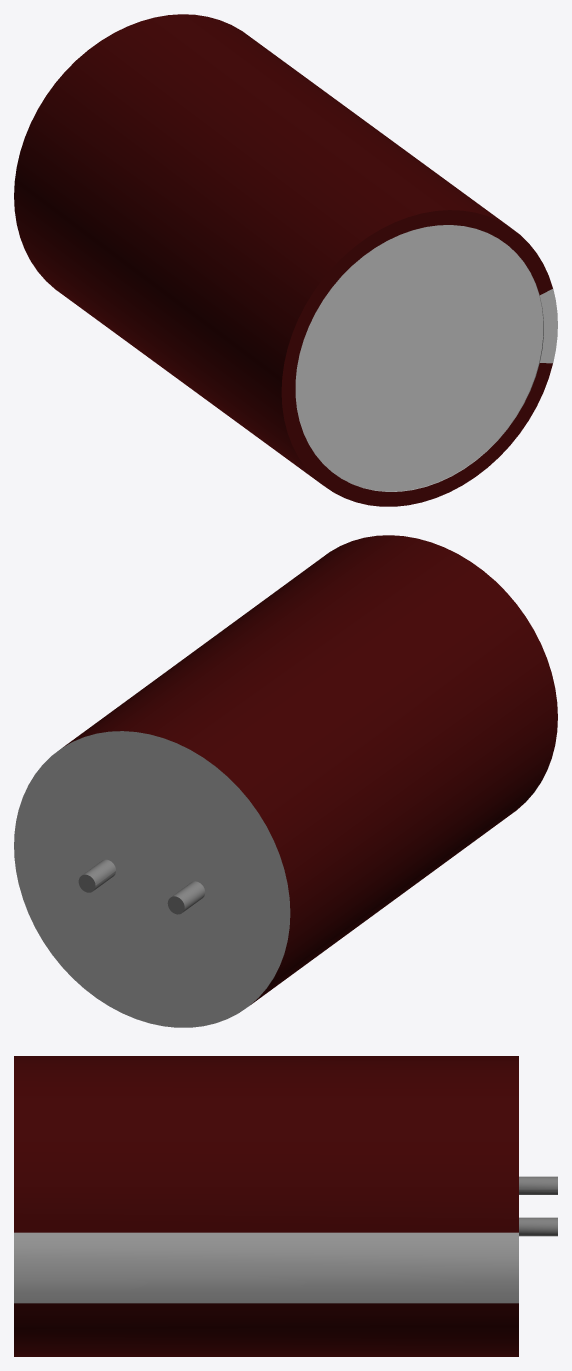
3 views of the same model, one above another, from view 1: azimuth 30°, elevation 25°; view 2: azimuth 150°, elevation 25°; view 3: azimuth 270°, elevation 25° (orthographic). The views are drawn at different scales.
Parts seen in each view (by area): view 1: Nichicon_3000x5000_Snap; view 2: Nichicon_3000x5000_Snap; view 3: Nichicon_3000x5000_Snap.
Part boxes in pixels (box(x1,y1,x2,y2)): Nichicon_3000x5000_Snap: box(14, 14, 557, 506); Nichicon_3000x5000_Snap: box(14, 535, 557, 1027); Nichicon_3000x5000_Snap: box(14, 1056, 557, 1356).
Bounding box in the file's own units: 31.01 × 30.99 × 56.01.
